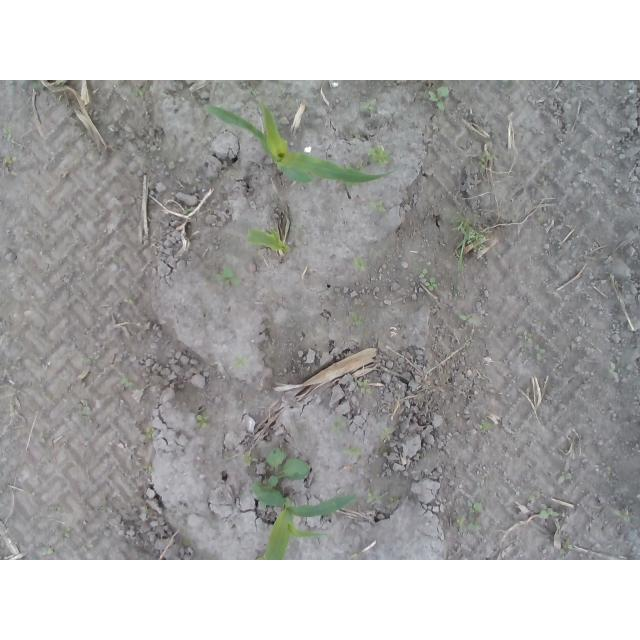Maize: (208, 104, 395, 185), (252, 480, 356, 560), (247, 226, 289, 254)
Weeds: (264, 448, 312, 489), (455, 496, 486, 530), (366, 144, 394, 168), (427, 83, 449, 113), (216, 264, 241, 289), (417, 268, 439, 291), (539, 504, 562, 520), (450, 215, 478, 228), (479, 151, 497, 170), (367, 487, 385, 506), (559, 541, 577, 560), (327, 416, 345, 433), (366, 200, 386, 215), (119, 375, 137, 391), (240, 450, 257, 466), (359, 98, 377, 113), (352, 256, 368, 272), (349, 312, 366, 327), (4, 156, 16, 177), (458, 314, 478, 326), (608, 361, 624, 375), (79, 399, 91, 417), (195, 415, 209, 430), (234, 356, 250, 368), (343, 447, 362, 457), (145, 426, 158, 440), (616, 511, 634, 521), (291, 96, 301, 113), (80, 355, 97, 365), (127, 88, 145, 97), (358, 380, 370, 393), (561, 471, 576, 481), (381, 427, 391, 441), (480, 422, 495, 431), (457, 256, 465, 272), (247, 87, 258, 97), (32, 80, 44, 89), (65, 527, 72, 537), (55, 80, 65, 86), (528, 495, 536, 502)
